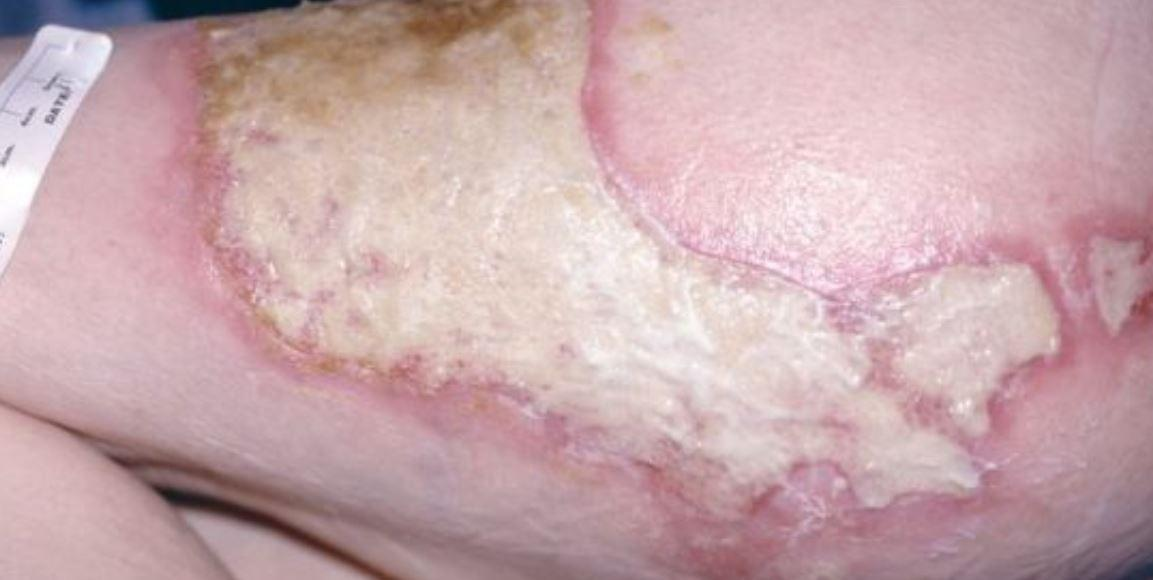NonPU: (167, 18, 1073, 518)
